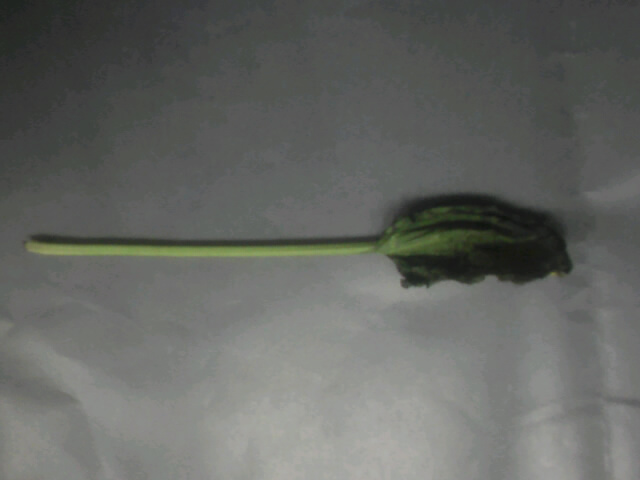yellow: (231, 180, 577, 305)
